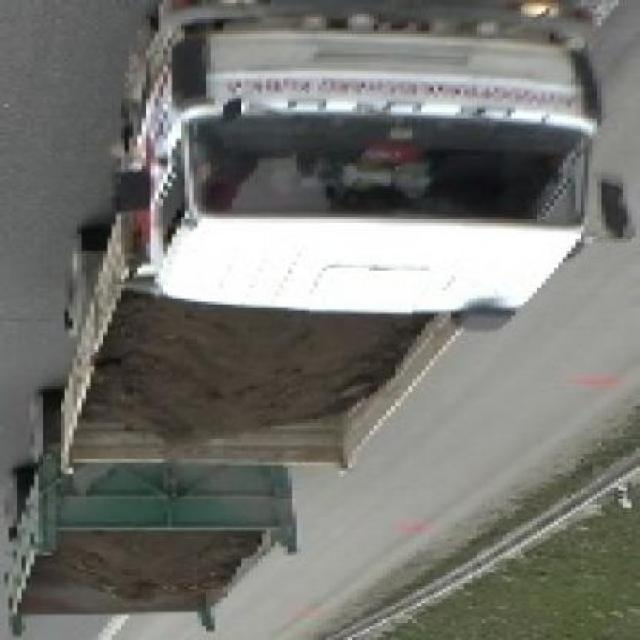truck: (1, 9, 628, 640)
